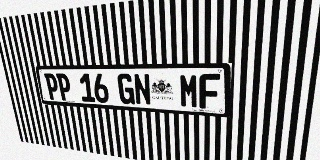1: (78, 73, 95, 102)
6: (92, 73, 110, 103)
F: (199, 74, 220, 110)
G: (117, 74, 135, 105)
M: (179, 74, 199, 108)
N: (133, 74, 152, 106)
P: (56, 73, 72, 101), (44, 73, 60, 100)
